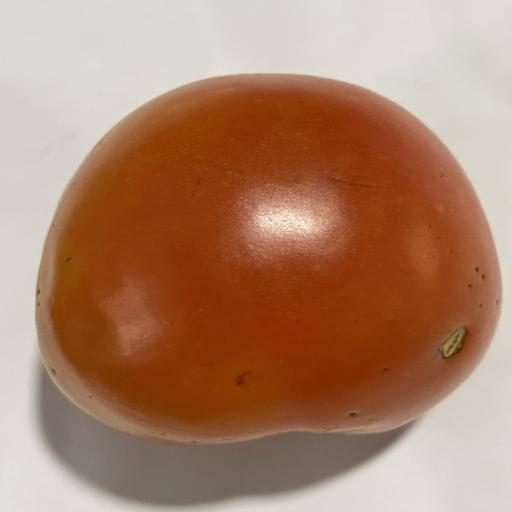ripe: (36, 74, 502, 445)
